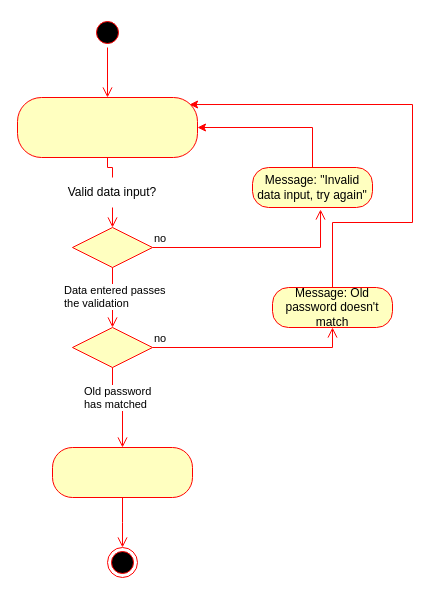
Image size: 438x595. Some labels were removed from this diagram. The shapes that lost their labels are listed below. From the top down, each one's centre as x and y in pixels, then its label:
At point 107,127: "Edit default credentials also change the password by entering the old password".
At point 122,472: "Update the new values in the respective table in database".
